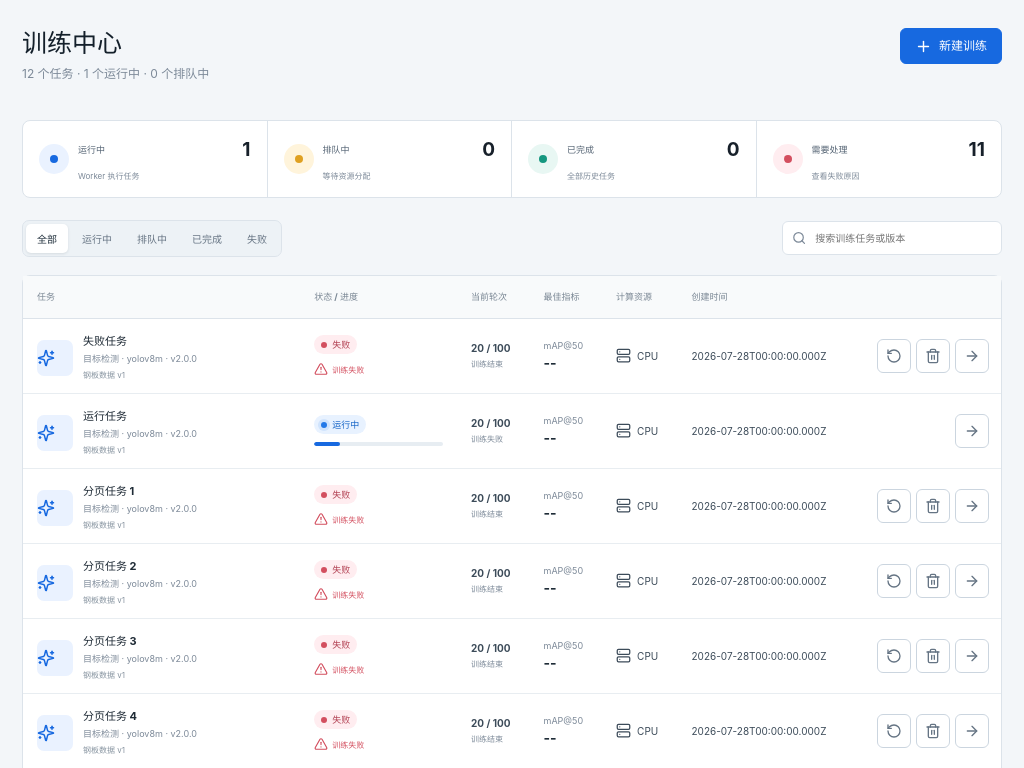
Test: TrainingPage delete action › deletes a terminal task after confirmation and hides deletion for running tasks
Step 1. Click the button named "删除 失败任务" → (933, 356), box [916,338,950,372]
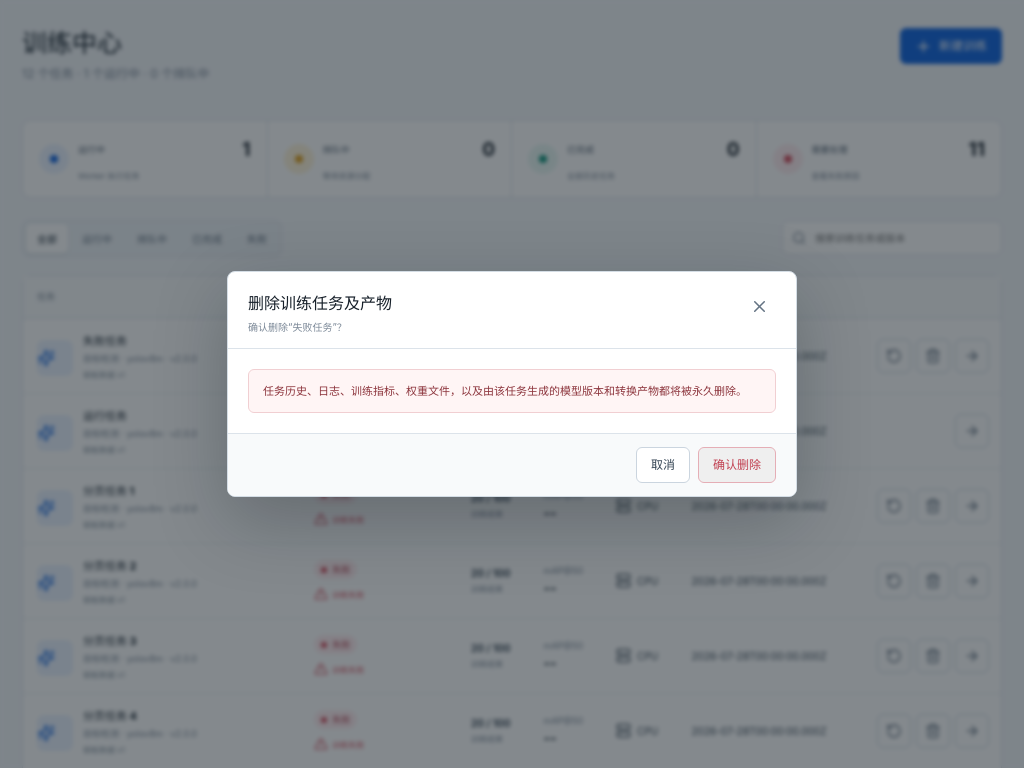
Expected: the heading "删除训练任务及产物" is shown, [248,290,392,314]
Expected: the text "任务历史、日志、训练指标、权重文件，以及由该任务生成的模型版本和转换产物都将被永久删除。" is shown, [248,369,776,413]
Step 2. Click the button "确认删除" → (737, 465), box [698,447,776,483]
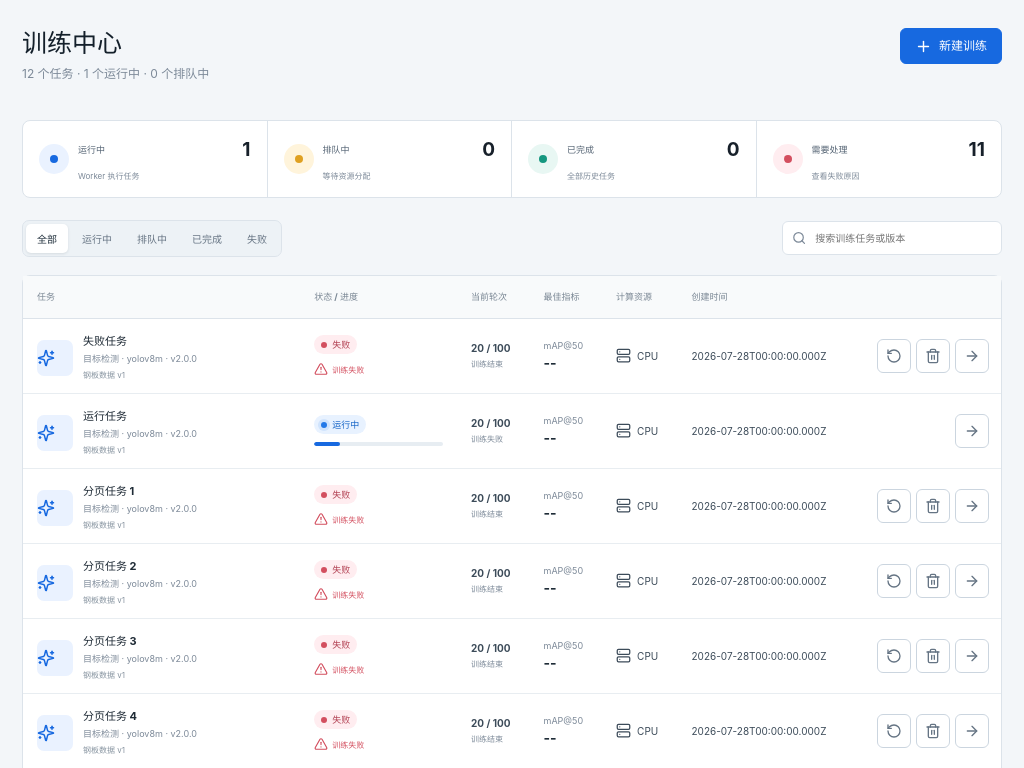
Expected: the heading "删除训练任务及产物" is gone
